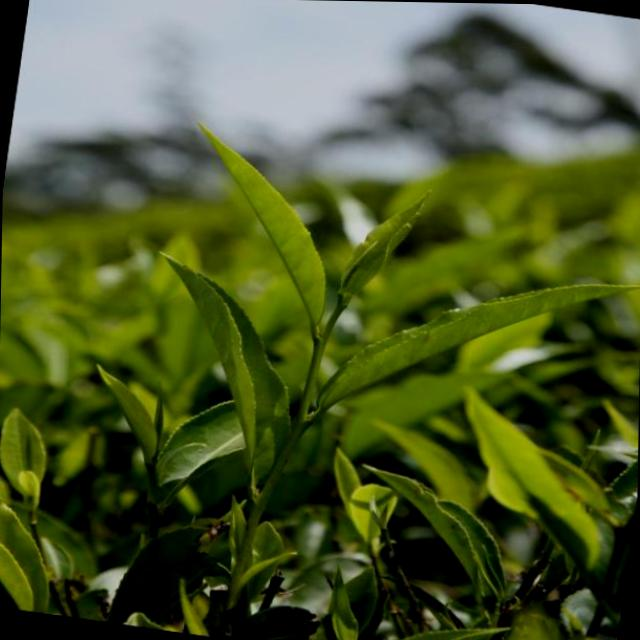Stem: (312, 339, 326, 355)
